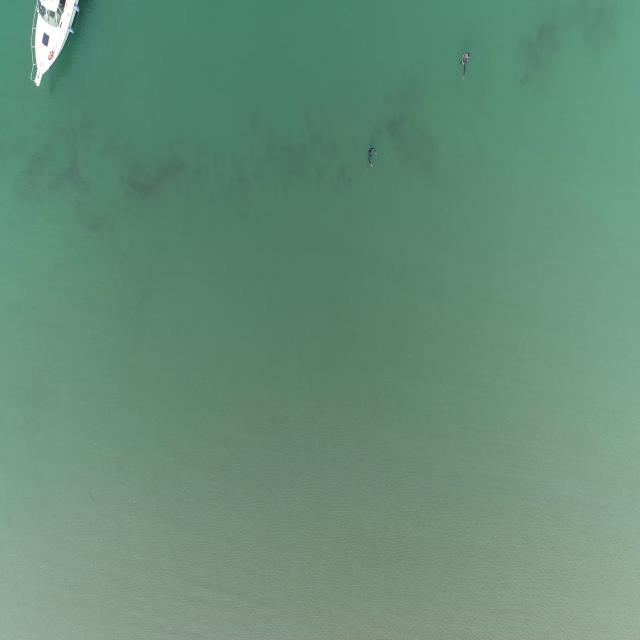boat: (26, 0, 81, 90)
person: (460, 50, 472, 79), (366, 146, 379, 169)
